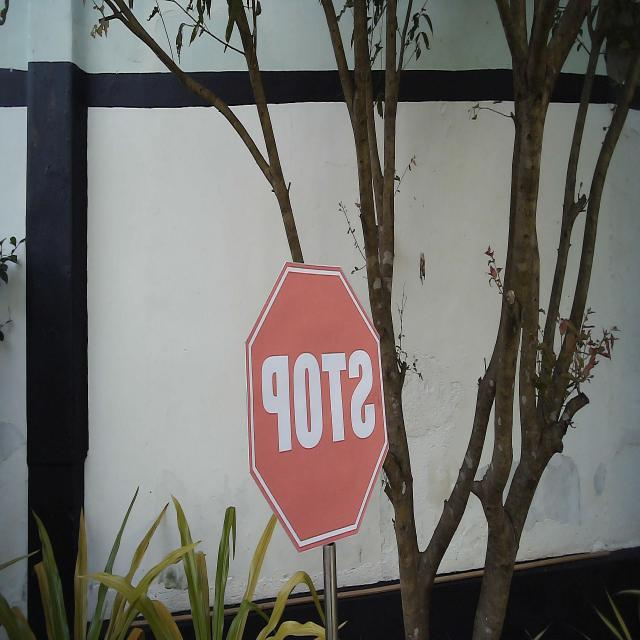stop: (242, 257, 392, 557)
